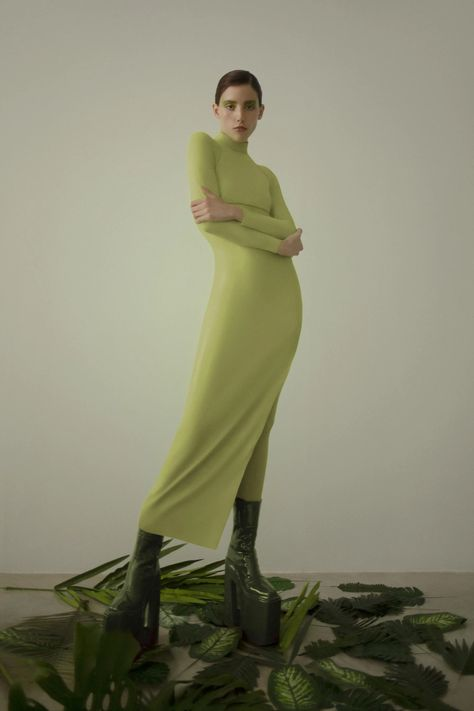person: (95, 48, 327, 651)
